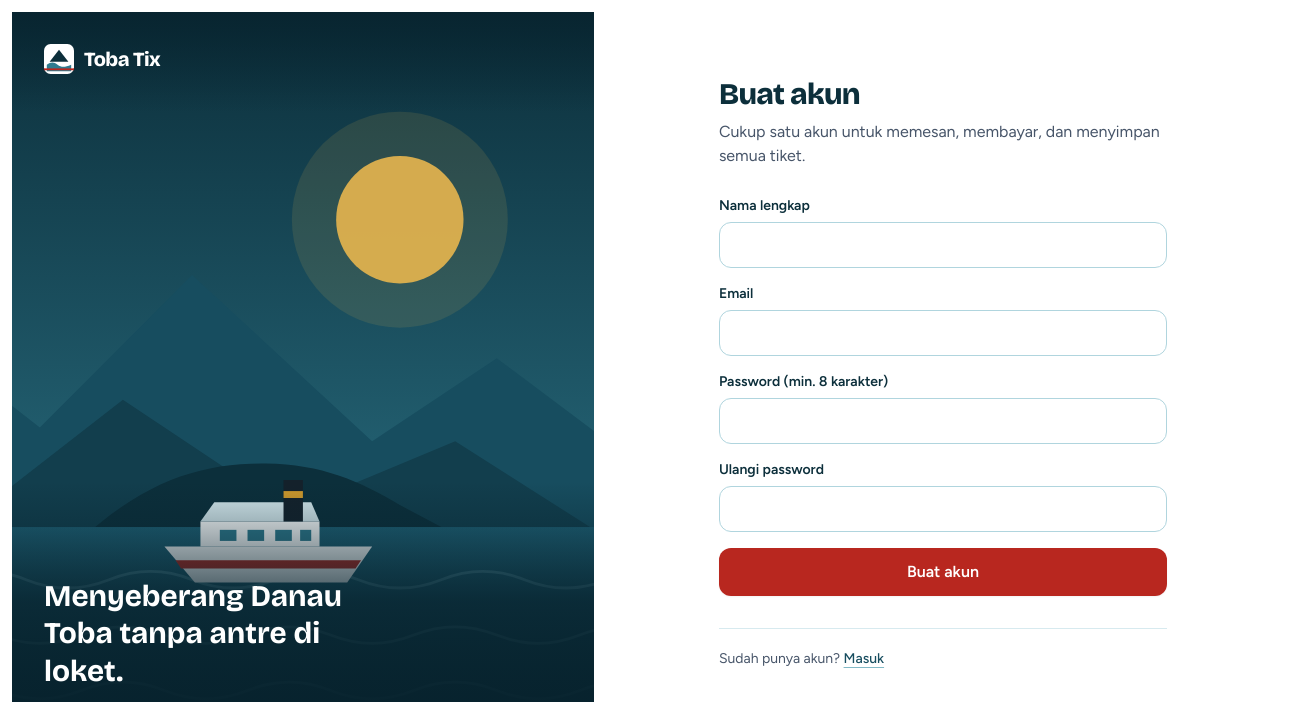
it: RegisterPage › validasi sisi klien untuk semua field
Step 1. Type "B" into the field with id "name" → (943, 244), box [719,222,1167,268]
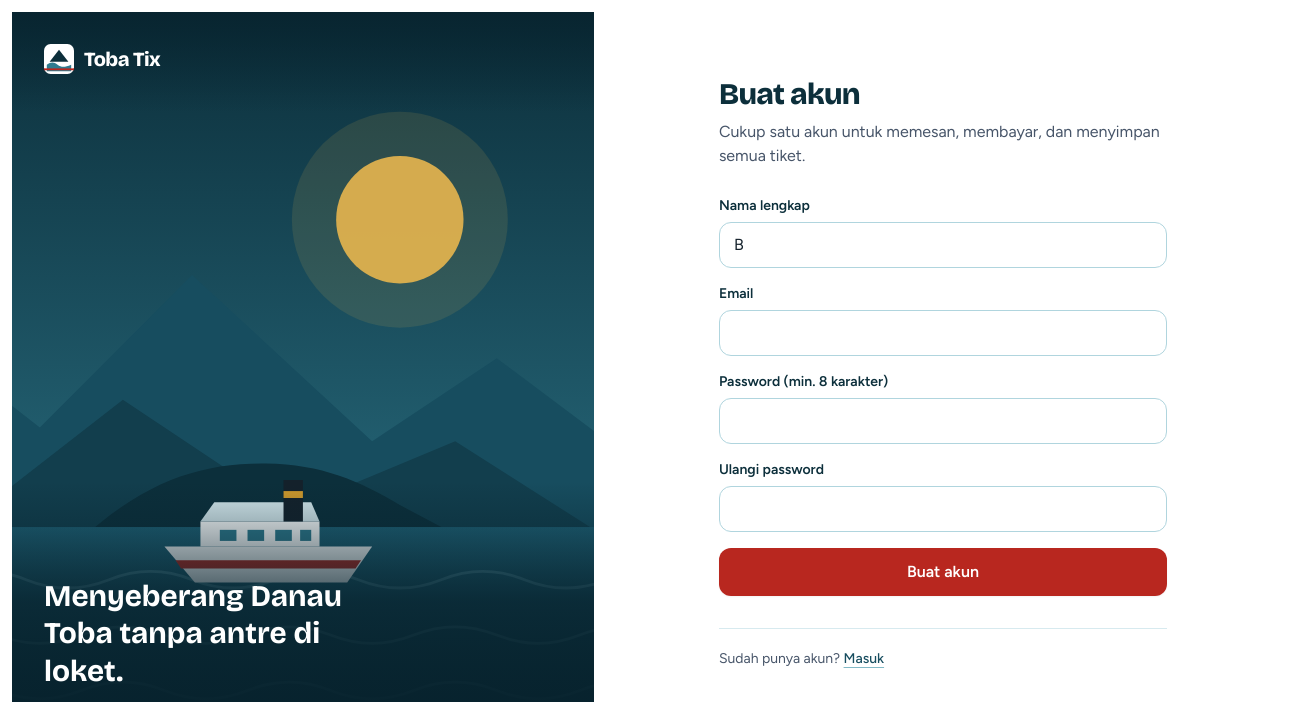
Step 2. Type "salah" into the field with id "email" → (943, 332), box [719,310,1167,356]
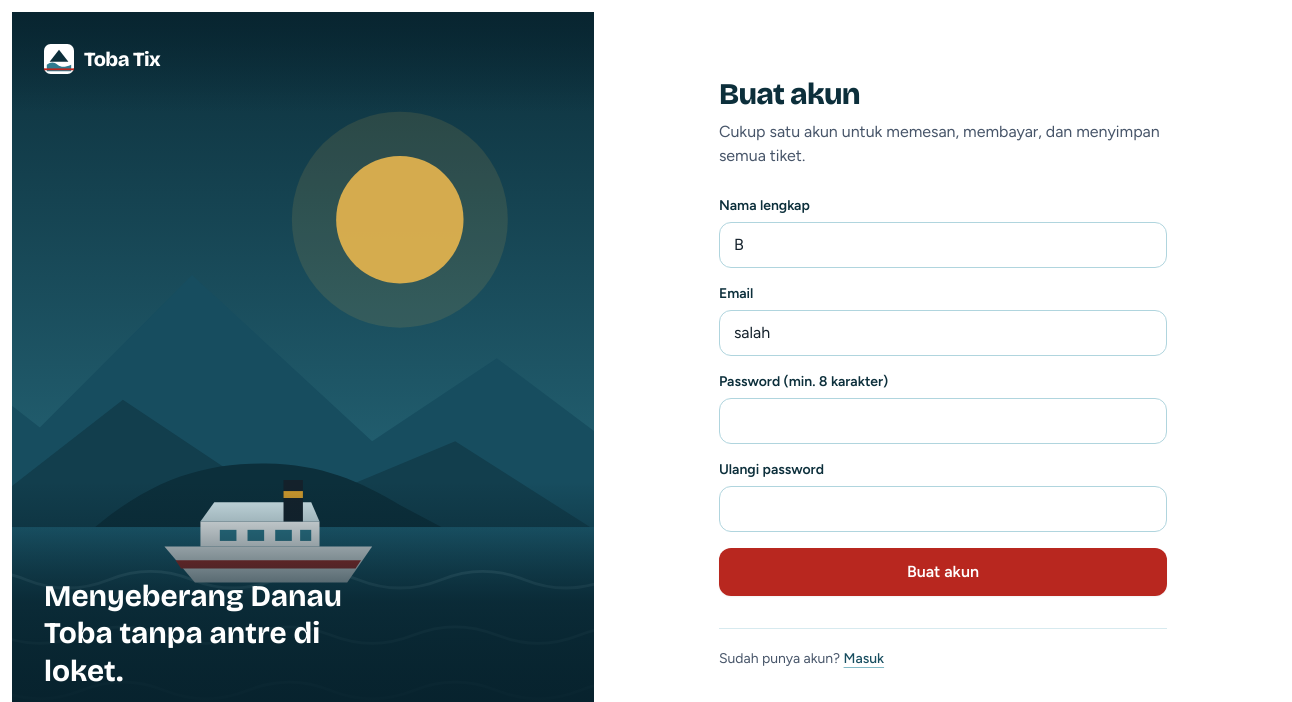
Step 3. Type "1234" into the password field labelled "Password (min. 8 karakter)" → (943, 420), box [719,398,1167,444]
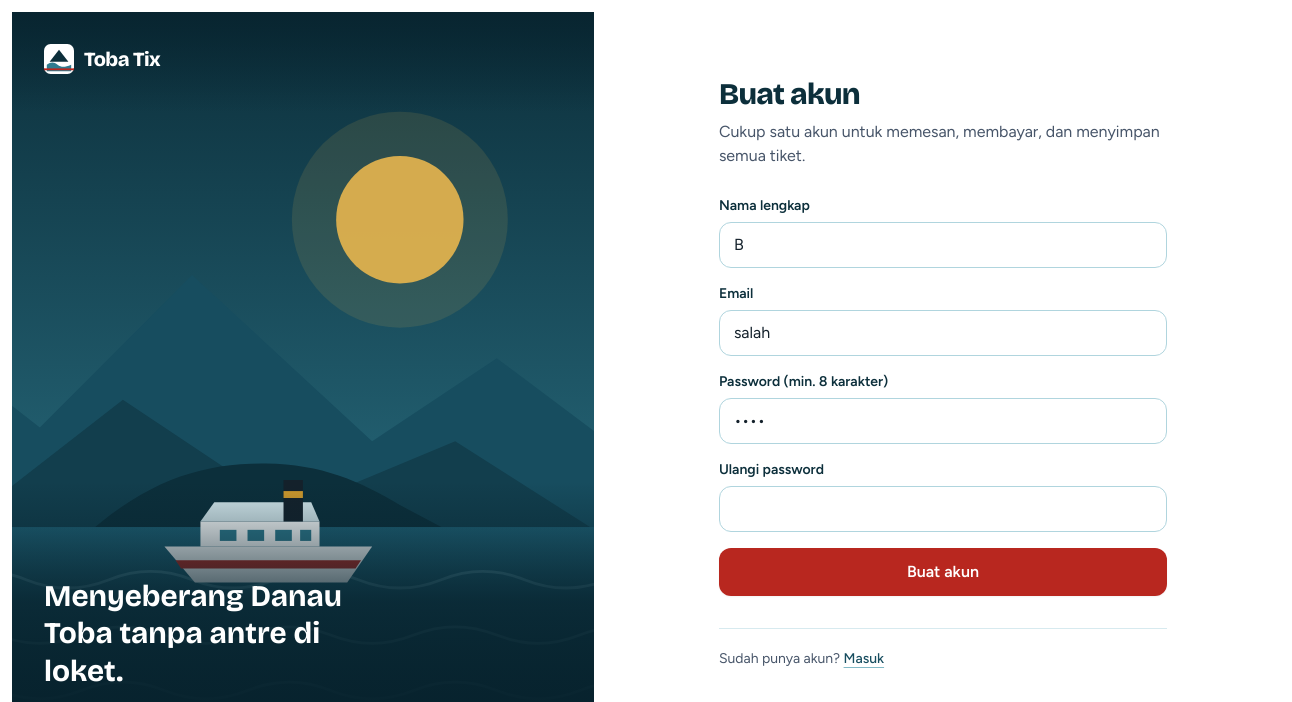
Step 4. Type "9999" into the password field with id "confirm" → (943, 508), box [719,486,1167,532]
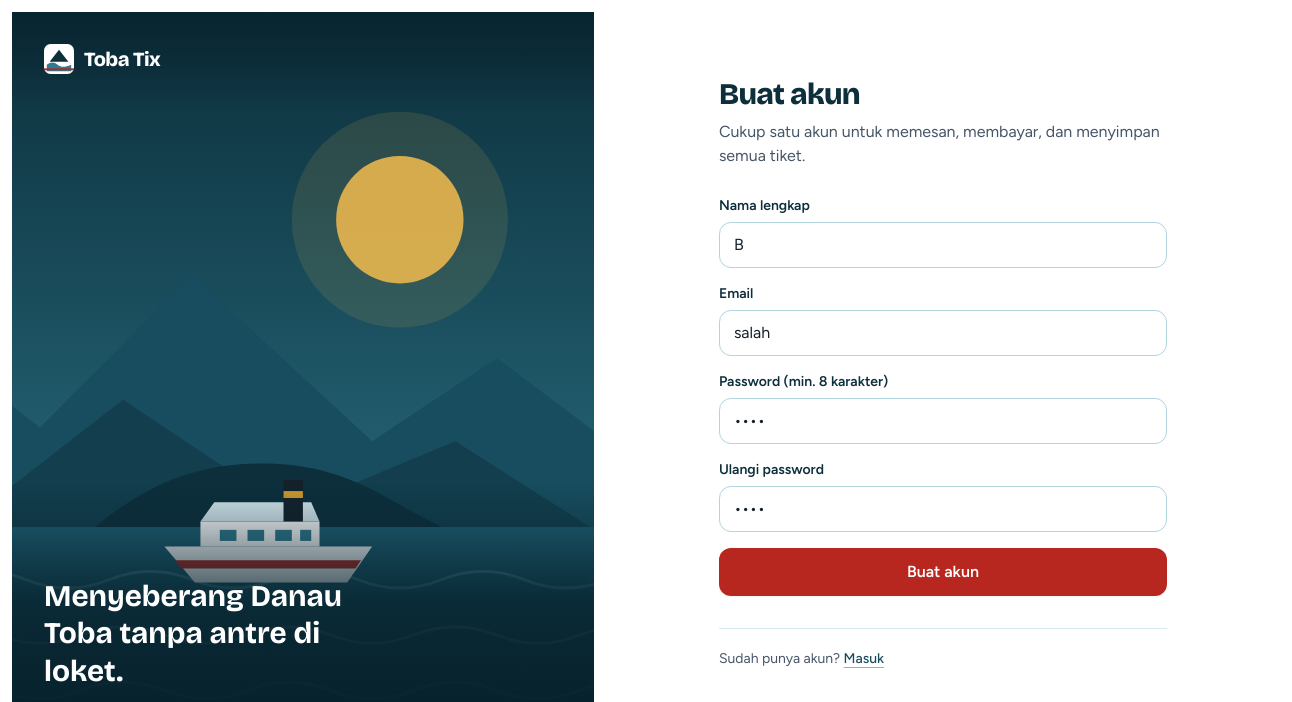
Step 5. Submit the form, box [719,196,1167,596]
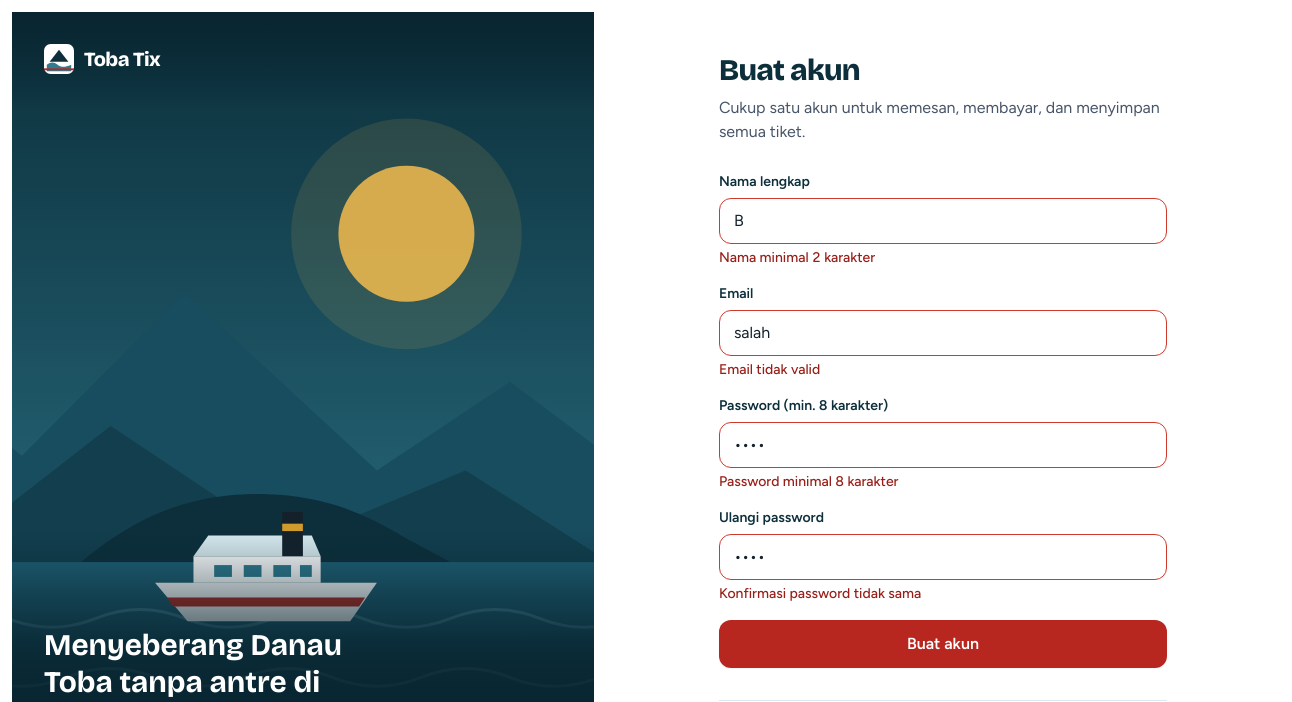
Result: the text "Nama minimal 2 karakter" is shown at [719,249,875,266]
Result: the text "Email tidak valid" is shown at [719,361,820,378]
Result: the text "Password minimal 8 karakter" is shown at [719,473,898,490]
